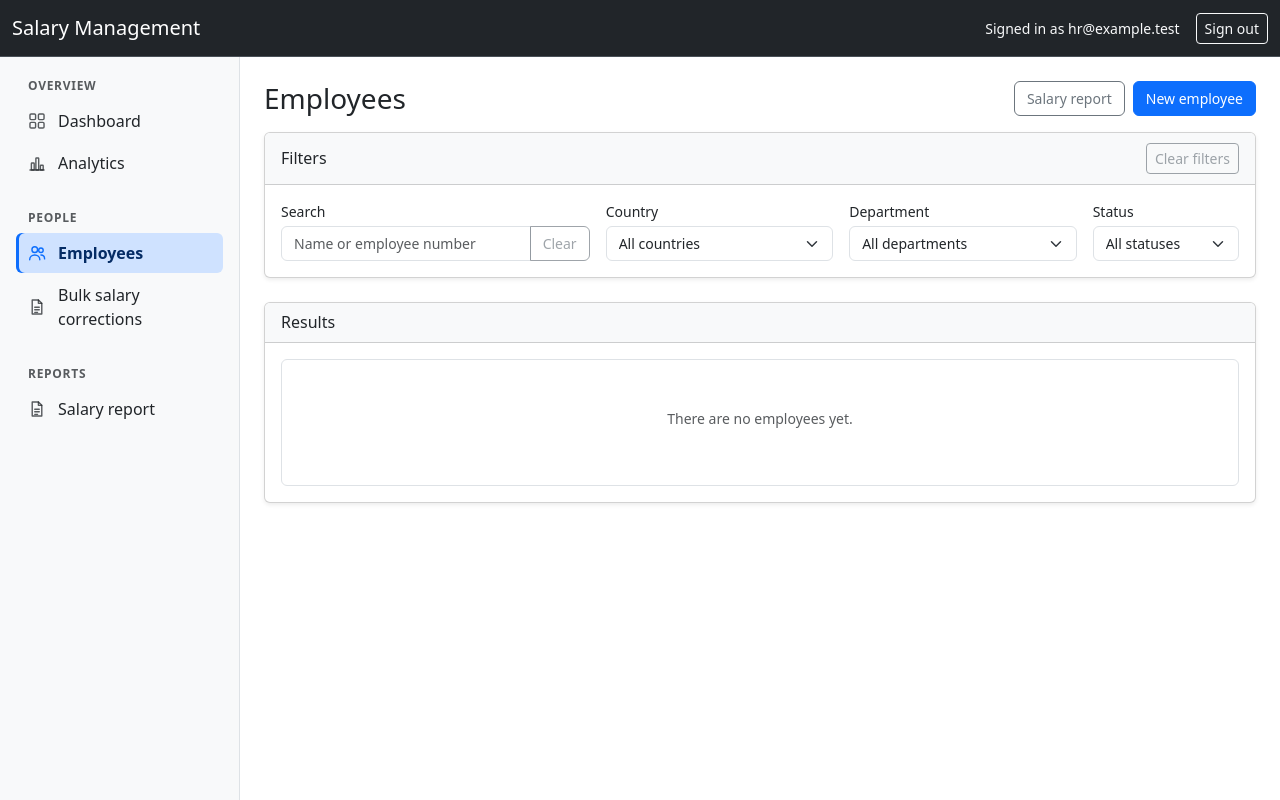
AnalyticsPage › is linked from the sidebar and shows the date the API applied
Click the link "Analytics" at point(76, 163), box [28,152,125,174]
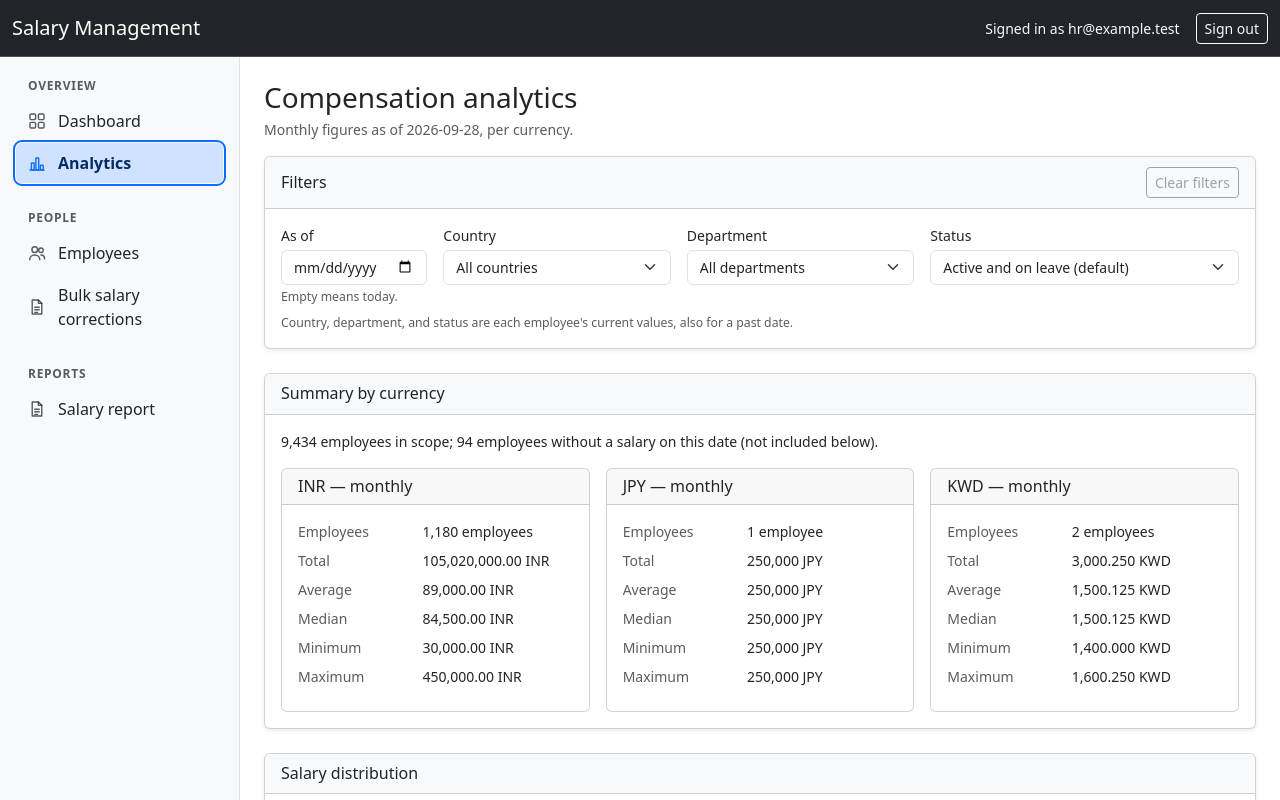
Check: the text "Monthly figures as of 2026-09-28, per currency." is shown, box [264,120,573,139]
